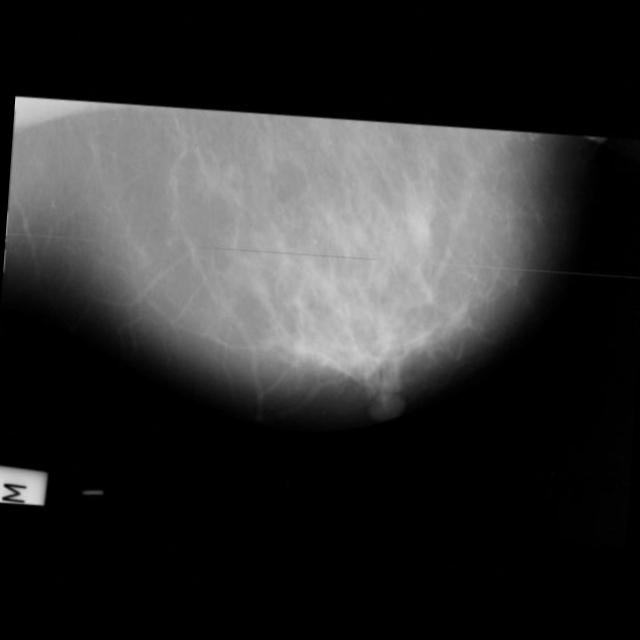MISC: (398, 209, 439, 250)
